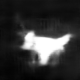plane: (15, 27, 79, 67)
